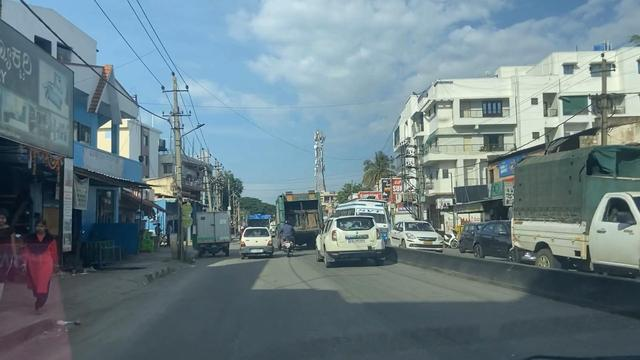HMV: (274, 196, 324, 248)
LMV: (310, 216, 375, 263), (237, 225, 271, 254)
